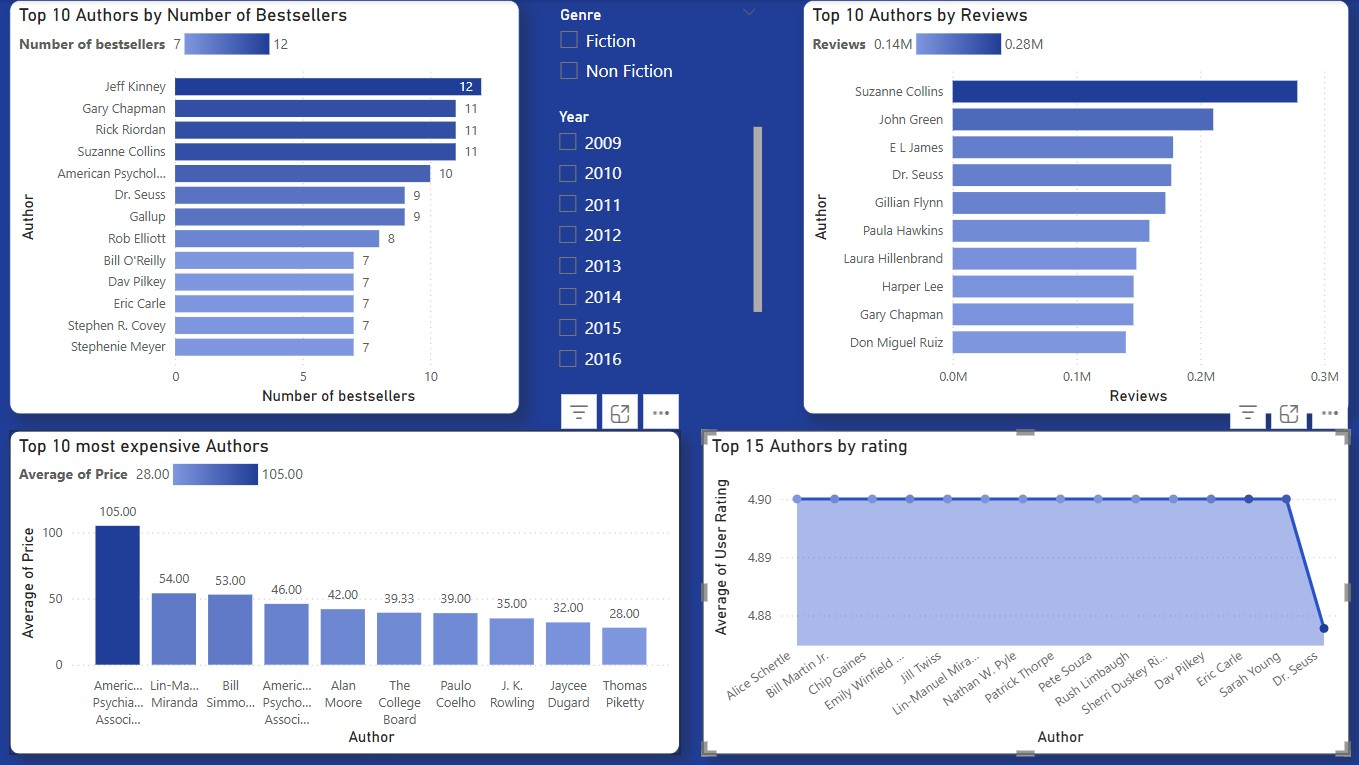

The dashboard page shown, as its layout file describes it:
{"tool":"powerbi","page":{"name":"Top authors","canvas":[1280,720],"ordinal":0},"visuals":[{"type":"barChart","title":"Top 10 Authors by Number of Bestsellers","fields":{"Category":["bestsellers with categories.Author"],"Y":["CountNonNull(bestsellers with categories.Name)"]},"box":[0,0,493.5,389.1],"z":0},{"type":"barChart","title":"Top 10 Authors by Reviews","fields":{"Category":["bestsellers with categories.Author"],"Y":["Sum(bestsellers with categories.Reviews)"]},"box":[755.9,0,523.6,388.6],"z":1000},{"type":"slicer","fields":{"Values":["bestsellers with categories.Genre"]},"box":[514.4,0,209.3,95.9],"z":2000},{"type":"slicer","fields":{"Values":["bestsellers with categories.YearasDate.Variation.Date Hierarchy.Year"]},"box":[512.9,95.9,209.3,263.6],"z":3000},{"type":"areaChart","title":"Top 15 Authors by rating ","fields":{"Category":["bestsellers with categories.Author"],"Y":["Avg(bestsellers with categories.User Rating)"]},"box":[661.8,414.4,617.7,305.1],"z":4000},{"type":"columnChart","title":"Top 10 most expensive Authors","fields":{"Category":["bestsellers with categories.Author"],"Y":["Avg(bestsellers with categories.Price)"]},"box":[0,414.4,629.9,305.1],"z":5000}]}

Visuals, with their boxes in screenshot pixels (x1, y1, x2, y2), scaled from the page's 1280x720 canvas onto the 1359x765 screenshot:
"Top 10 Authors by Number of Bestsellers" barChart: 0:0:524:413
"Top 10 Authors by Reviews" barChart: 803:0:1358:413
slicer - bestsellers with categories.Genre: 546:0:768:102
slicer - bestsellers with categories.YearasDate.Variation.Date Hierarchy.Year: 545:102:767:382
"Top 15 Authors by rating " areaChart: 703:440:1358:764
"Top 10 most expensive Authors" columnChart: 0:440:669:764
